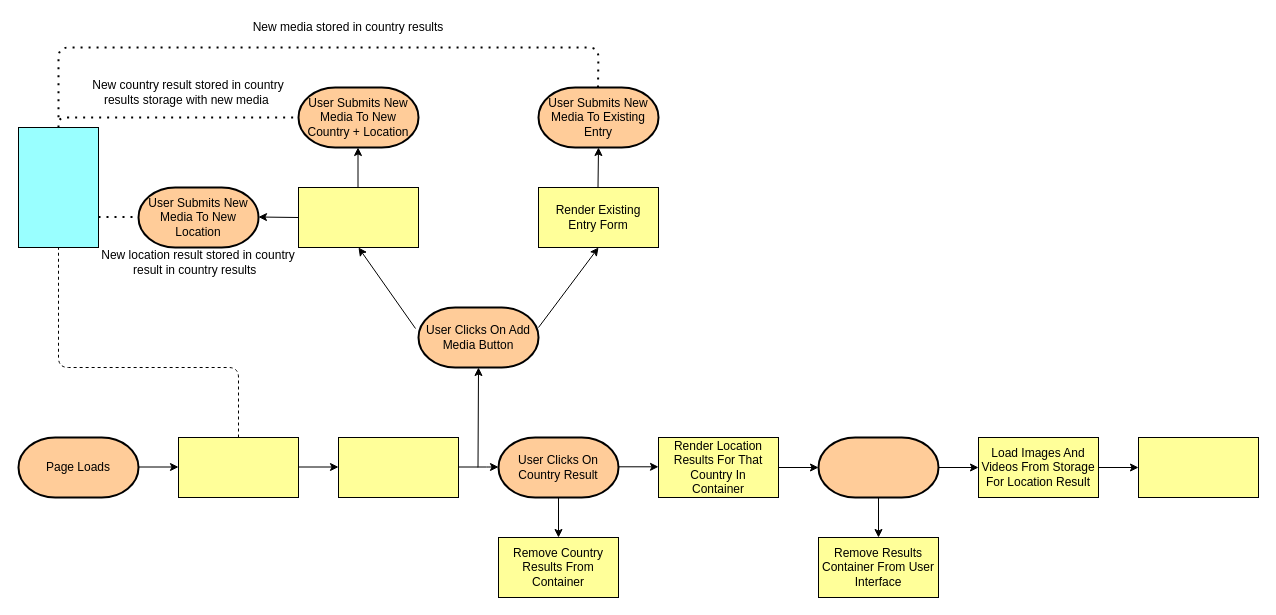
This 1276x615 diagram has some shape labels left out. Here are the shapes that lost their labels. From the top down, the box of each, then its label:
(18, 126, 98, 248): Store Country Results Each With Their Respective Location Results
(298, 186, 418, 248): Render New Entry Form
(178, 436, 298, 498): Load Country Results From Storage
(338, 436, 458, 498): Render Country Results In Container
(817, 436, 939, 498): User Clicks On Location Result
(1138, 436, 1258, 498): Render Media Window With Images And Videos Inside
